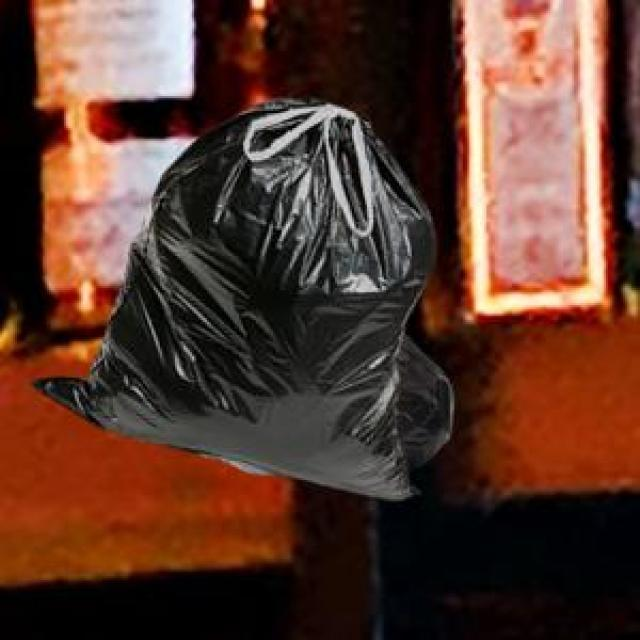waste: (36, 101, 452, 499)
